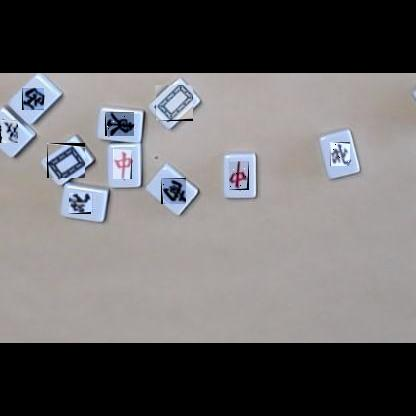1z: (105, 112, 134, 136)
2z: (161, 178, 186, 204), (0, 120, 18, 143)
3z: (22, 87, 44, 110)
4z: (70, 193, 96, 214), (330, 142, 350, 166)
5z: (155, 85, 193, 121), (47, 143, 85, 178)
7z: (229, 161, 249, 190), (113, 149, 132, 179)
